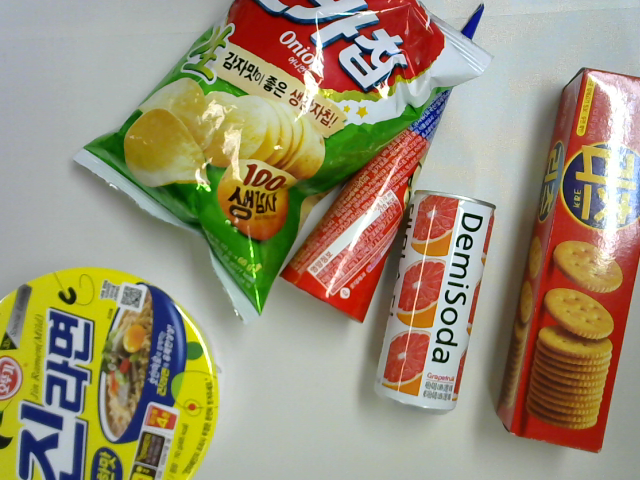Demisoda_Grapefruit_Can_250ml: (373, 184, 506, 426)
Jinlamyeon_Mild_Taste_Large_Cup: (1, 262, 228, 479)
Pocachip_Onion: (67, 1, 499, 331)
Ritz_Cracker: (495, 62, 640, 463)
World_Cone_Banila: (273, 1, 491, 330)
